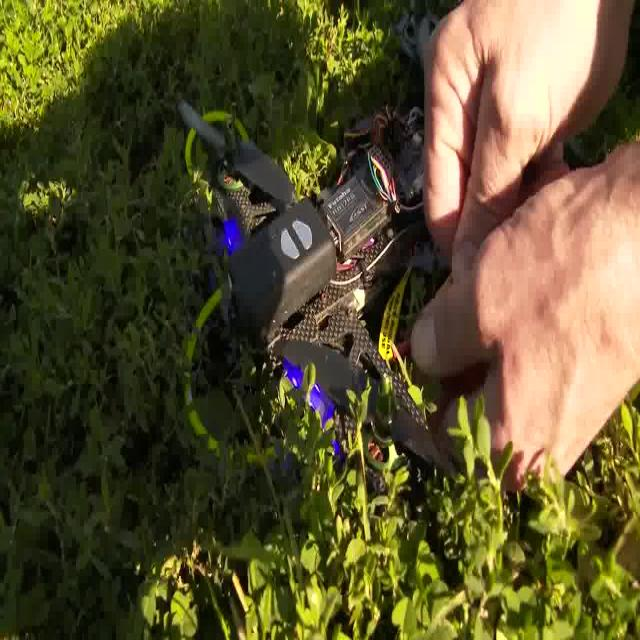drones: (168, 79, 449, 491)
